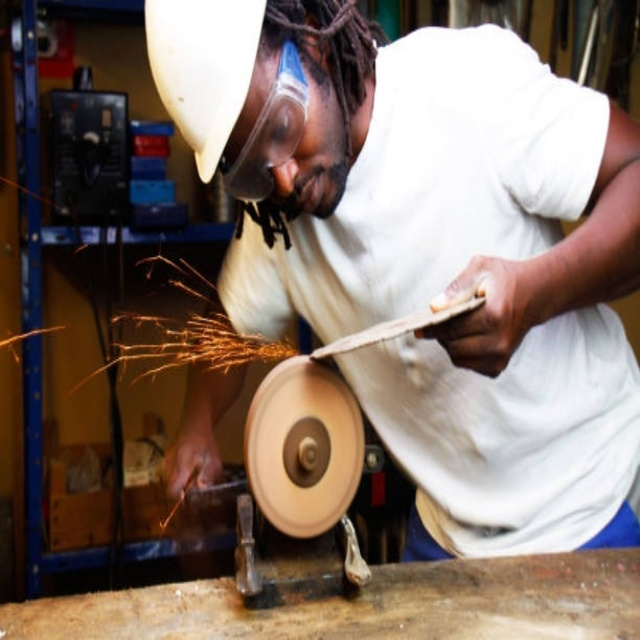Gafas: (224, 40, 310, 204)
Sin_guantes: (423, 252, 527, 376), (162, 418, 225, 503)
Sin_mascara: (290, 163, 343, 216)
